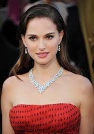female: (18, 8, 66, 71)
